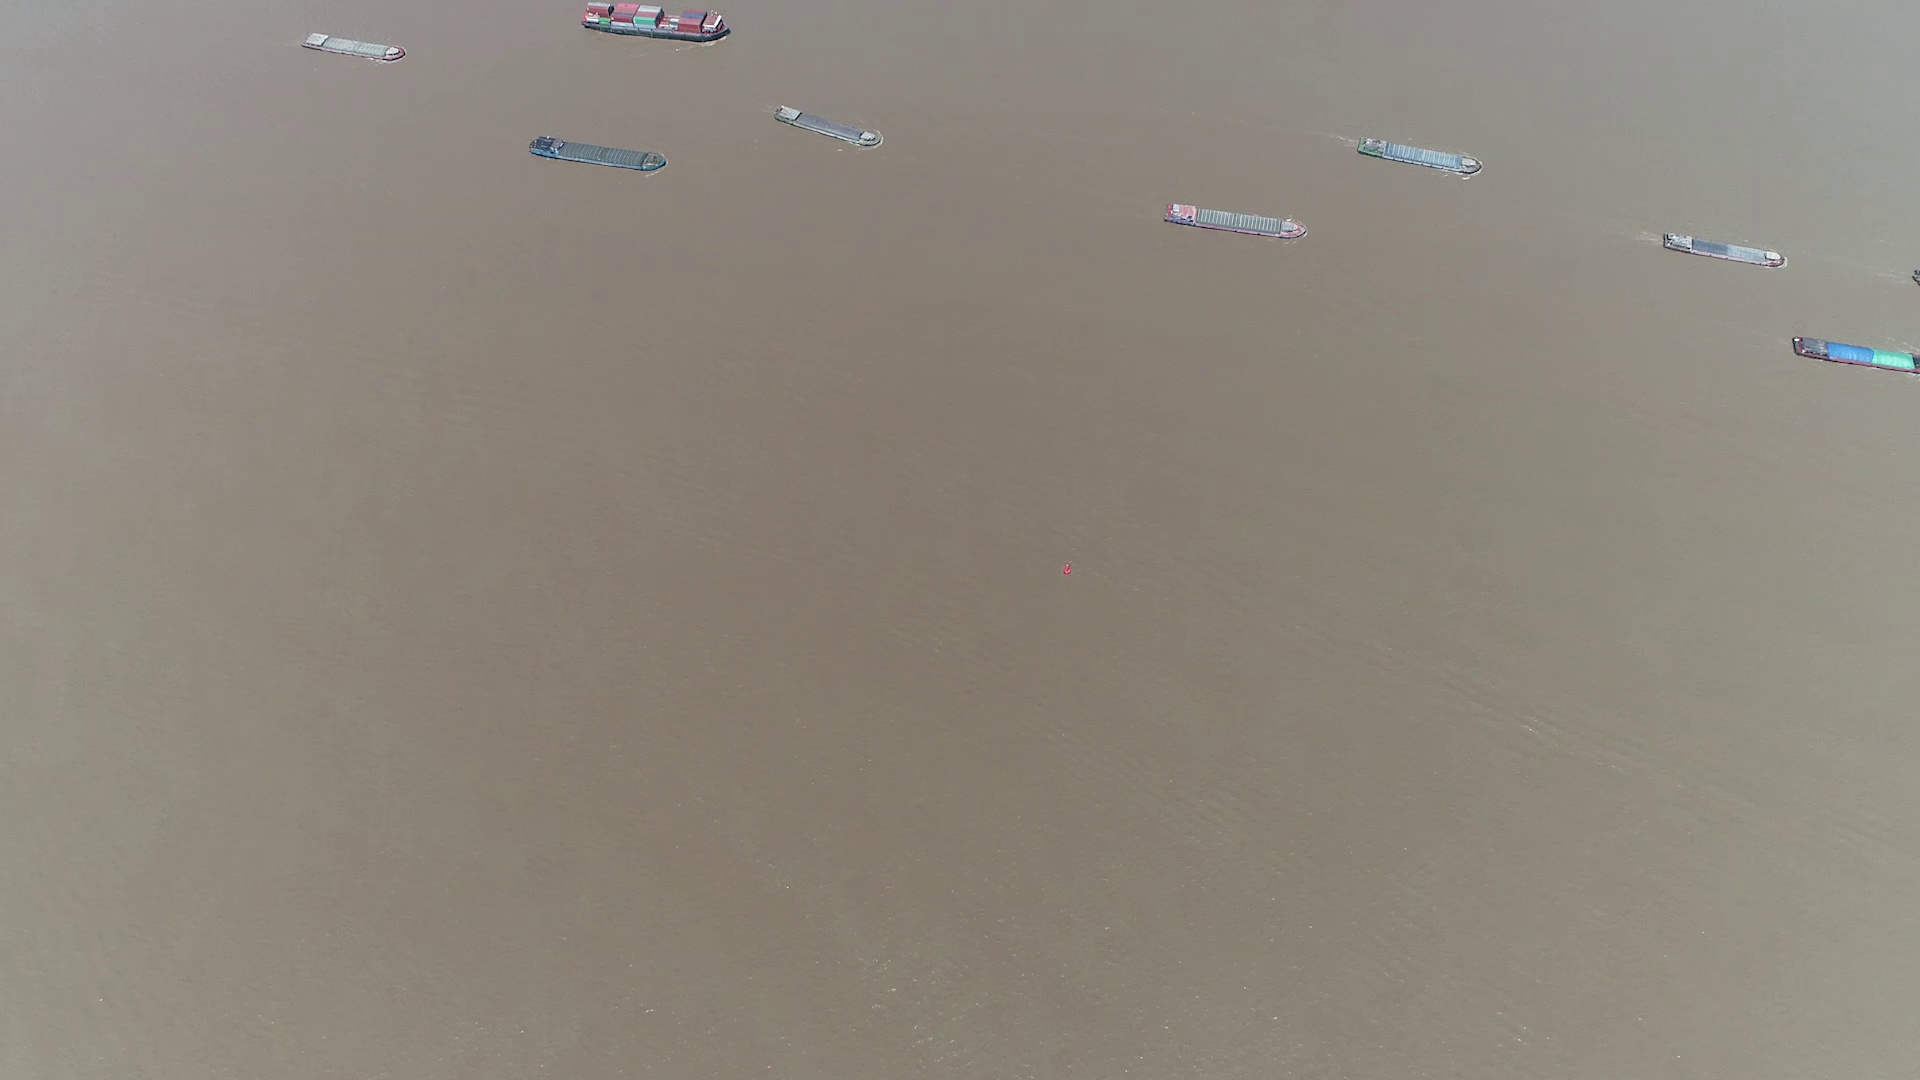ship: (582, 3, 731, 42), (1160, 202, 1307, 241), (529, 136, 667, 174), (1356, 135, 1481, 175), (1791, 335, 1917, 375), (773, 105, 880, 150), (1659, 231, 1785, 268), (301, 30, 407, 65)
